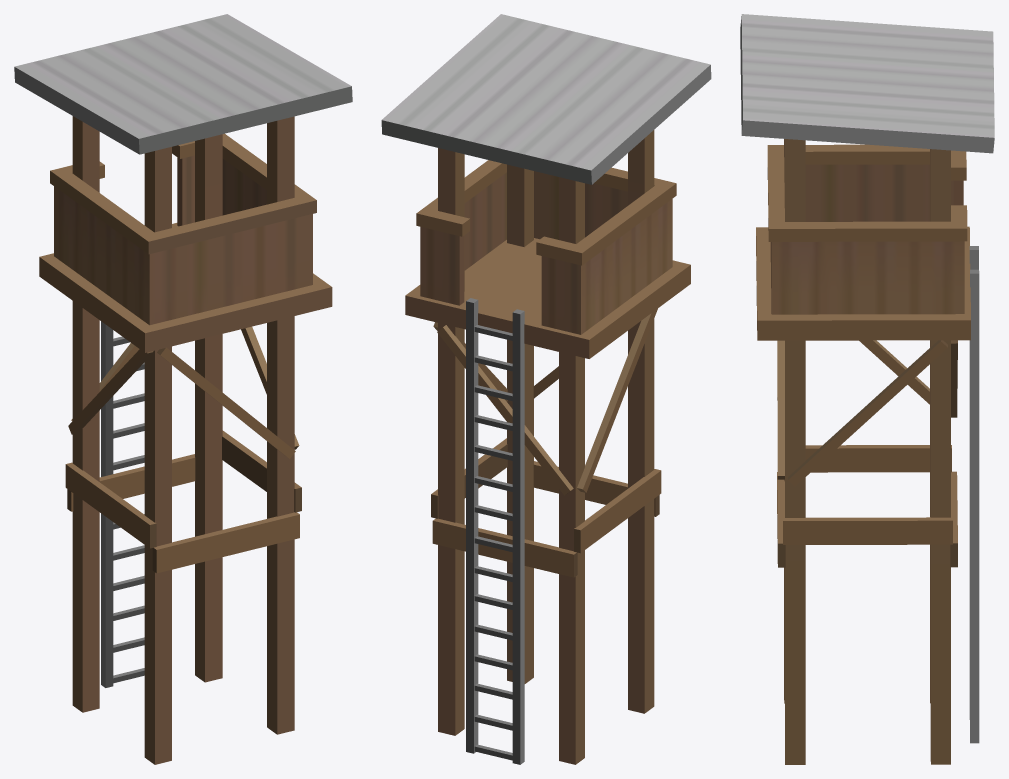
The model's file is Tower.fbx.
The picture shows the model from 3 angles, left to right: view 1: azimuth 30°, elevation 25°; view 2: azimuth 150°, elevation 25°; view 3: azimuth 270°, elevation 25°; orthographic projection. The views are drawn at different scales.
Visible parts, largest first — view 1: Tower; view 2: Tower; view 3: Tower.
Part boxes in pixels (x1=…): Tower: x1=14, y1=14, x2=352, y2=764; Tower: x1=381, y1=14, x2=711, y2=764; Tower: x1=740, y1=14, x2=994, y2=764.
Size of the model in its own units: 2.12 by 6.14 by 2.14.
